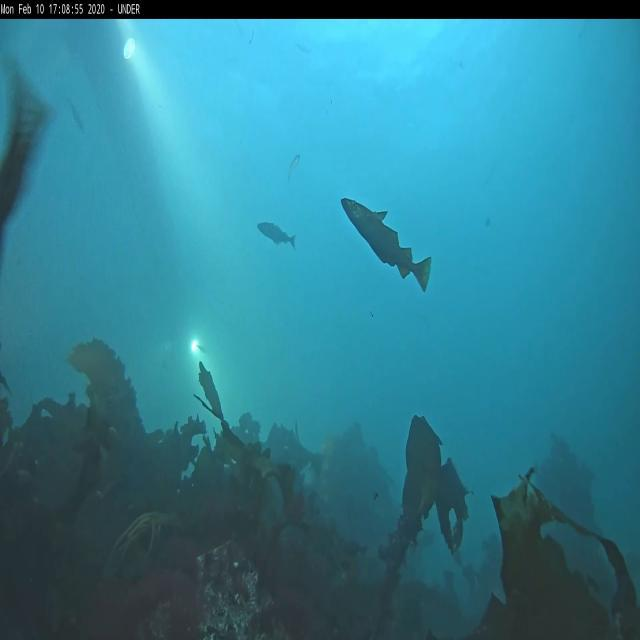fish: (342, 196, 432, 293), (256, 220, 296, 248), (286, 151, 300, 184)
